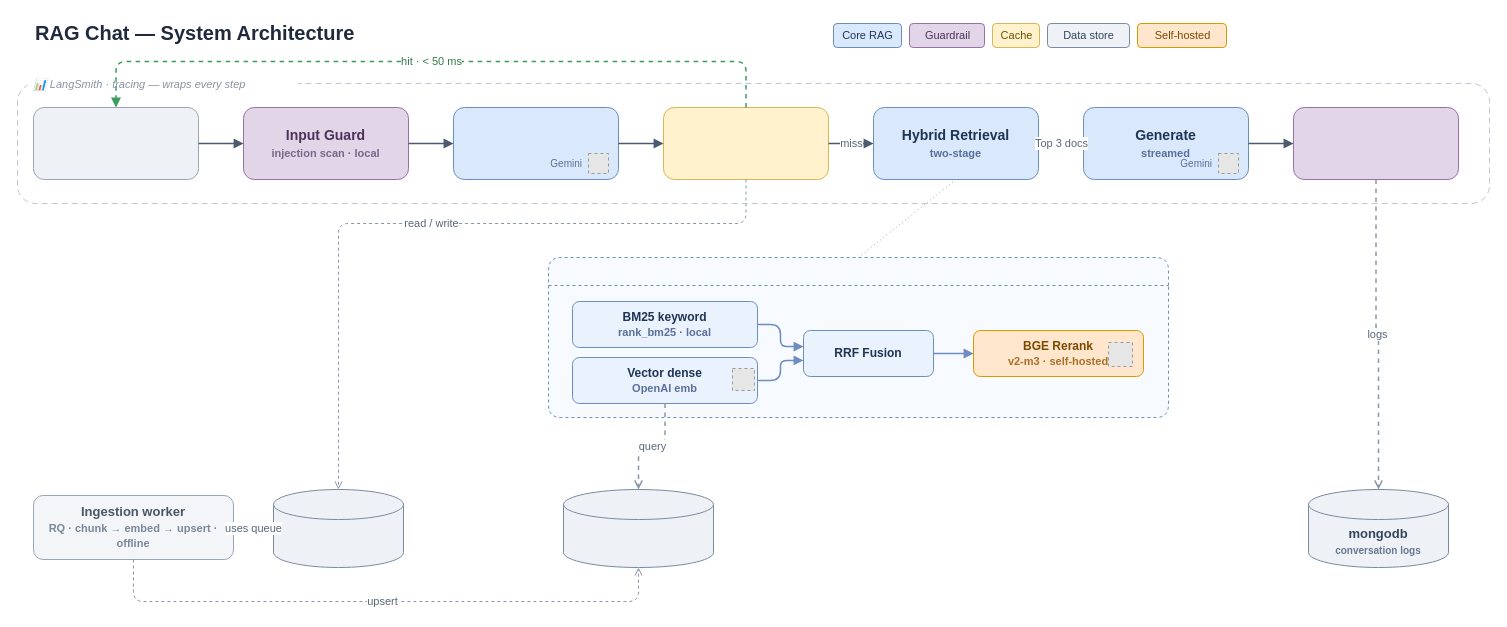
Some shapes in this 1507 by 627 pixel diagram are drawn without their labels. Grey dashed boxes stand in for pictures. Here are the shapes that lost their labels. From the top down, the box of each, then its label:
(32, 106, 198, 180): Gradio UI chat
(452, 106, 618, 180): Query Understanding intent + rewrite
(662, 106, 828, 180): Semantic Cache sim > 0.95
(1292, 106, 1458, 180): Response Guardrail PII / injection · local
(548, 256, 1168, 418): Inside Hybrid Retrieval
(272, 488, 404, 568): redis queue + cache
(562, 488, 714, 568): Pinecone vector index
